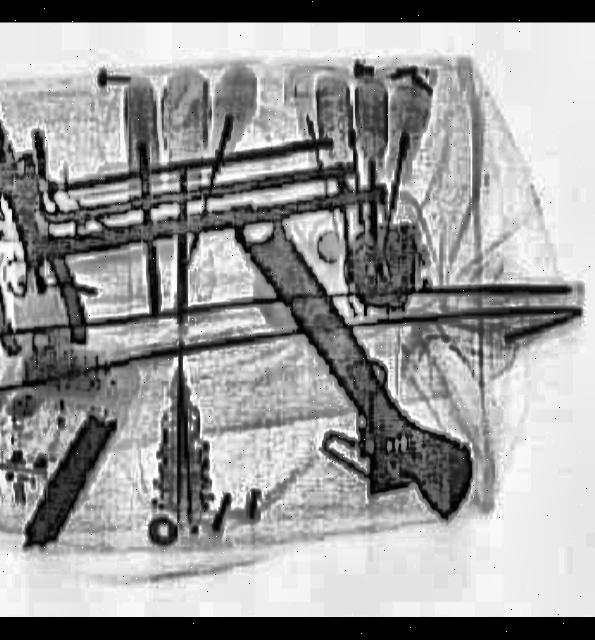Pliers: (0, 98, 83, 355)
Wrench: (190, 178, 493, 548)
